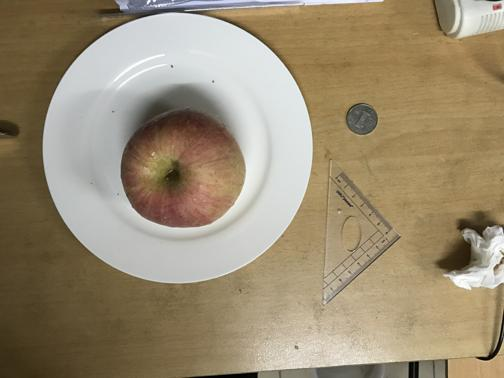apple: (118, 107, 246, 227)
coin: (345, 100, 378, 135)
